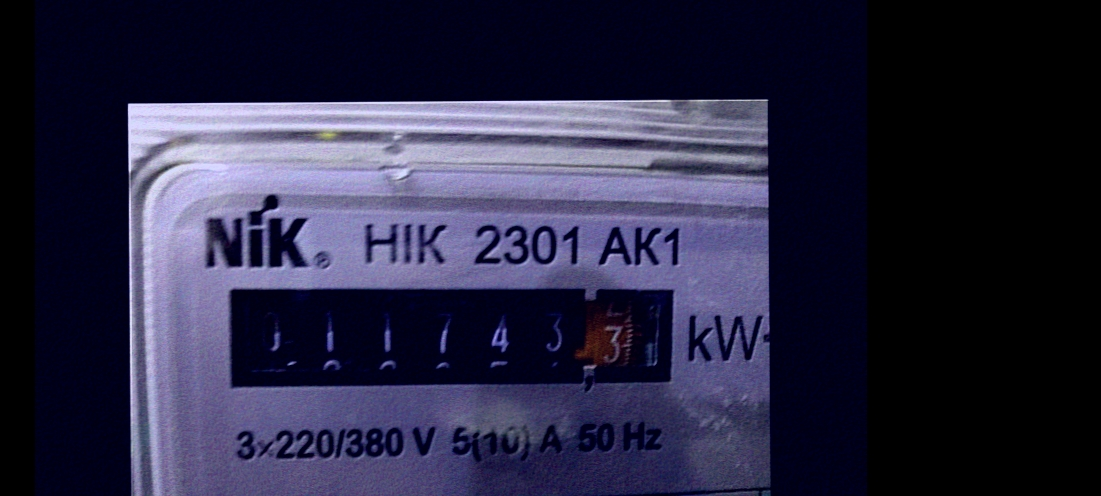0: (258, 307, 287, 354)
1: (378, 307, 399, 355), (323, 308, 340, 356)
3: (542, 308, 570, 355), (602, 322, 626, 366)
4: (488, 307, 516, 356)
7: (434, 309, 458, 357)
screen: (216, 276, 683, 398)
